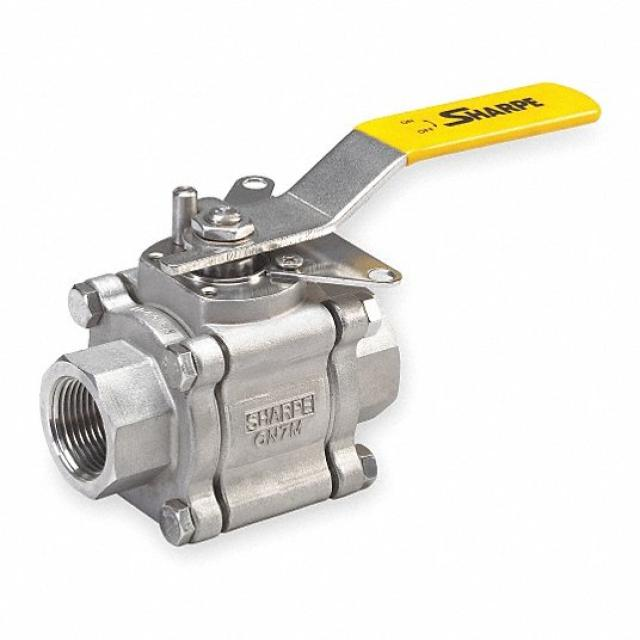Lever Handle Valve Threaded: (31, 65, 603, 306)
